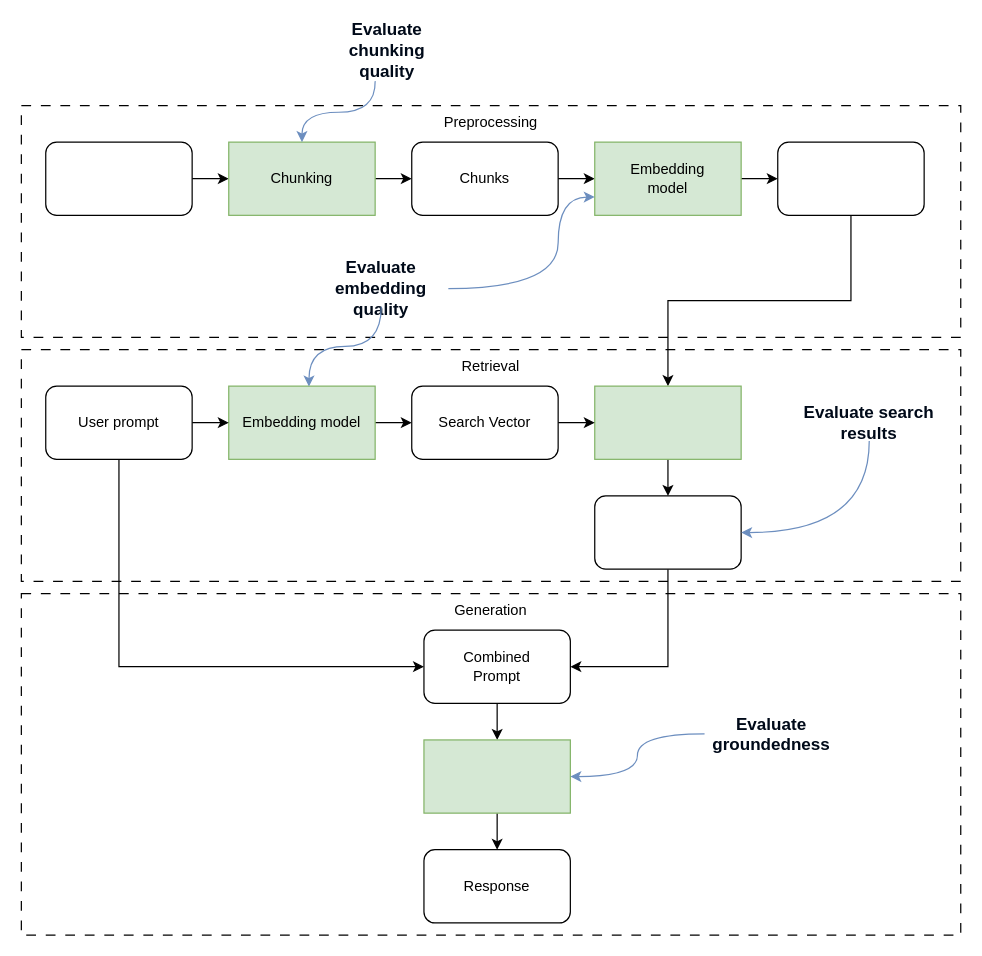
Image size: 982x956. Some labels were removed from this diagram. Each missing label, with the centre of its shape:
Knowledge base: pixel 118 178
LLM: pixel 496 776
Top-K matching chunks: pixel 667 532
Vector database: pixel 667 422
Vectors: pixel 850 178
